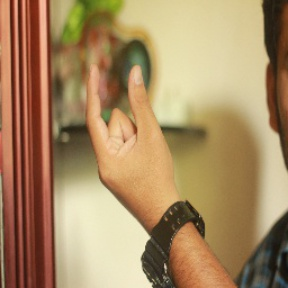U: (80, 62, 169, 201)
